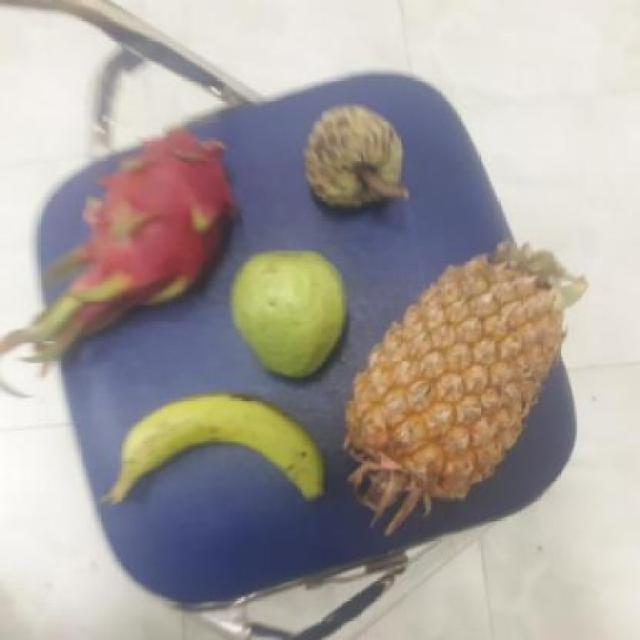banana: (107, 396, 324, 506)
dragon fruit: (85, 130, 237, 308)
guava: (228, 250, 350, 378)
pineapple: (342, 249, 566, 523)
sugar apple: (299, 106, 403, 212)
